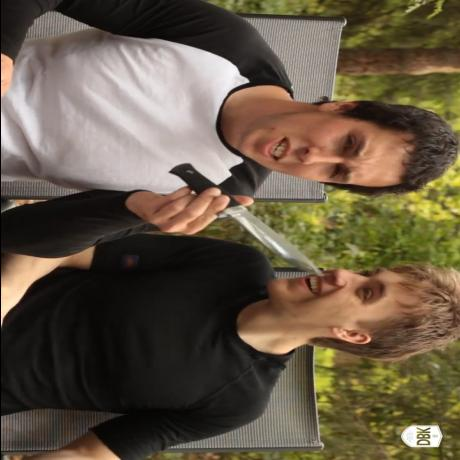1: (2, 0, 453, 256), (0, 247, 458, 457)
weapon: (175, 165, 322, 277)
